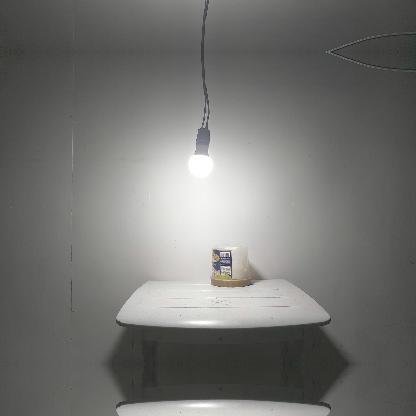Lady-s-Choice: (210, 244, 252, 286)
